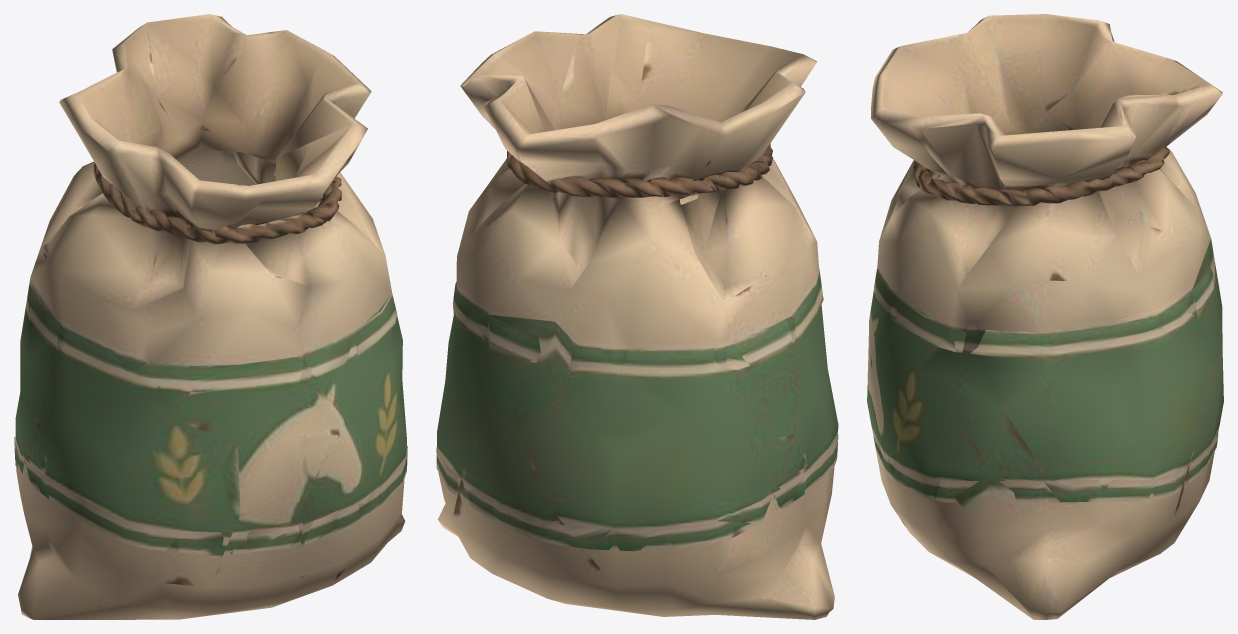
File: Grain_Sack.glb
3 views of the same model, side by side, from view 1: azimuth 30°, elevation 25°; view 2: azimuth 150°, elevation 25°; view 3: azimuth 270°, elevation 25° (orthographic). The views are drawn at different scales.
Parts seen in each view (by area): view 1: tripo_node_3c43d111-2811-42f8-96b0-37d049a537df; view 2: tripo_node_3c43d111-2811-42f8-96b0-37d049a537df; view 3: tripo_node_3c43d111-2811-42f8-96b0-37d049a537df.
Boxes of the visible parts, x1,y1,x2,y2 form: tripo_node_3c43d111-2811-42f8-96b0-37d049a537df: (14, 14, 407, 619); tripo_node_3c43d111-2811-42f8-96b0-37d049a537df: (436, 14, 838, 619); tripo_node_3c43d111-2811-42f8-96b0-37d049a537df: (867, 14, 1223, 619).
Size of the model in its own units: 1.13 by 1.4 by 0.9596.
Materials: 1 (1 with a texture image).
